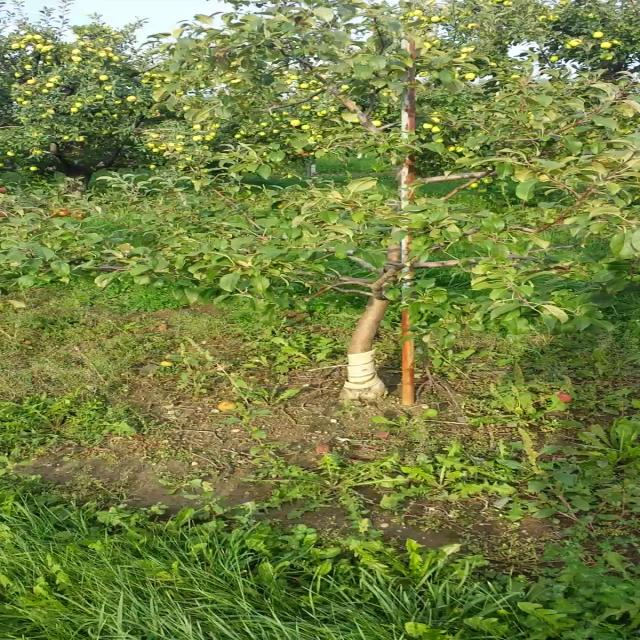apple: (55, 209, 69, 217), (0, 184, 7, 192)
